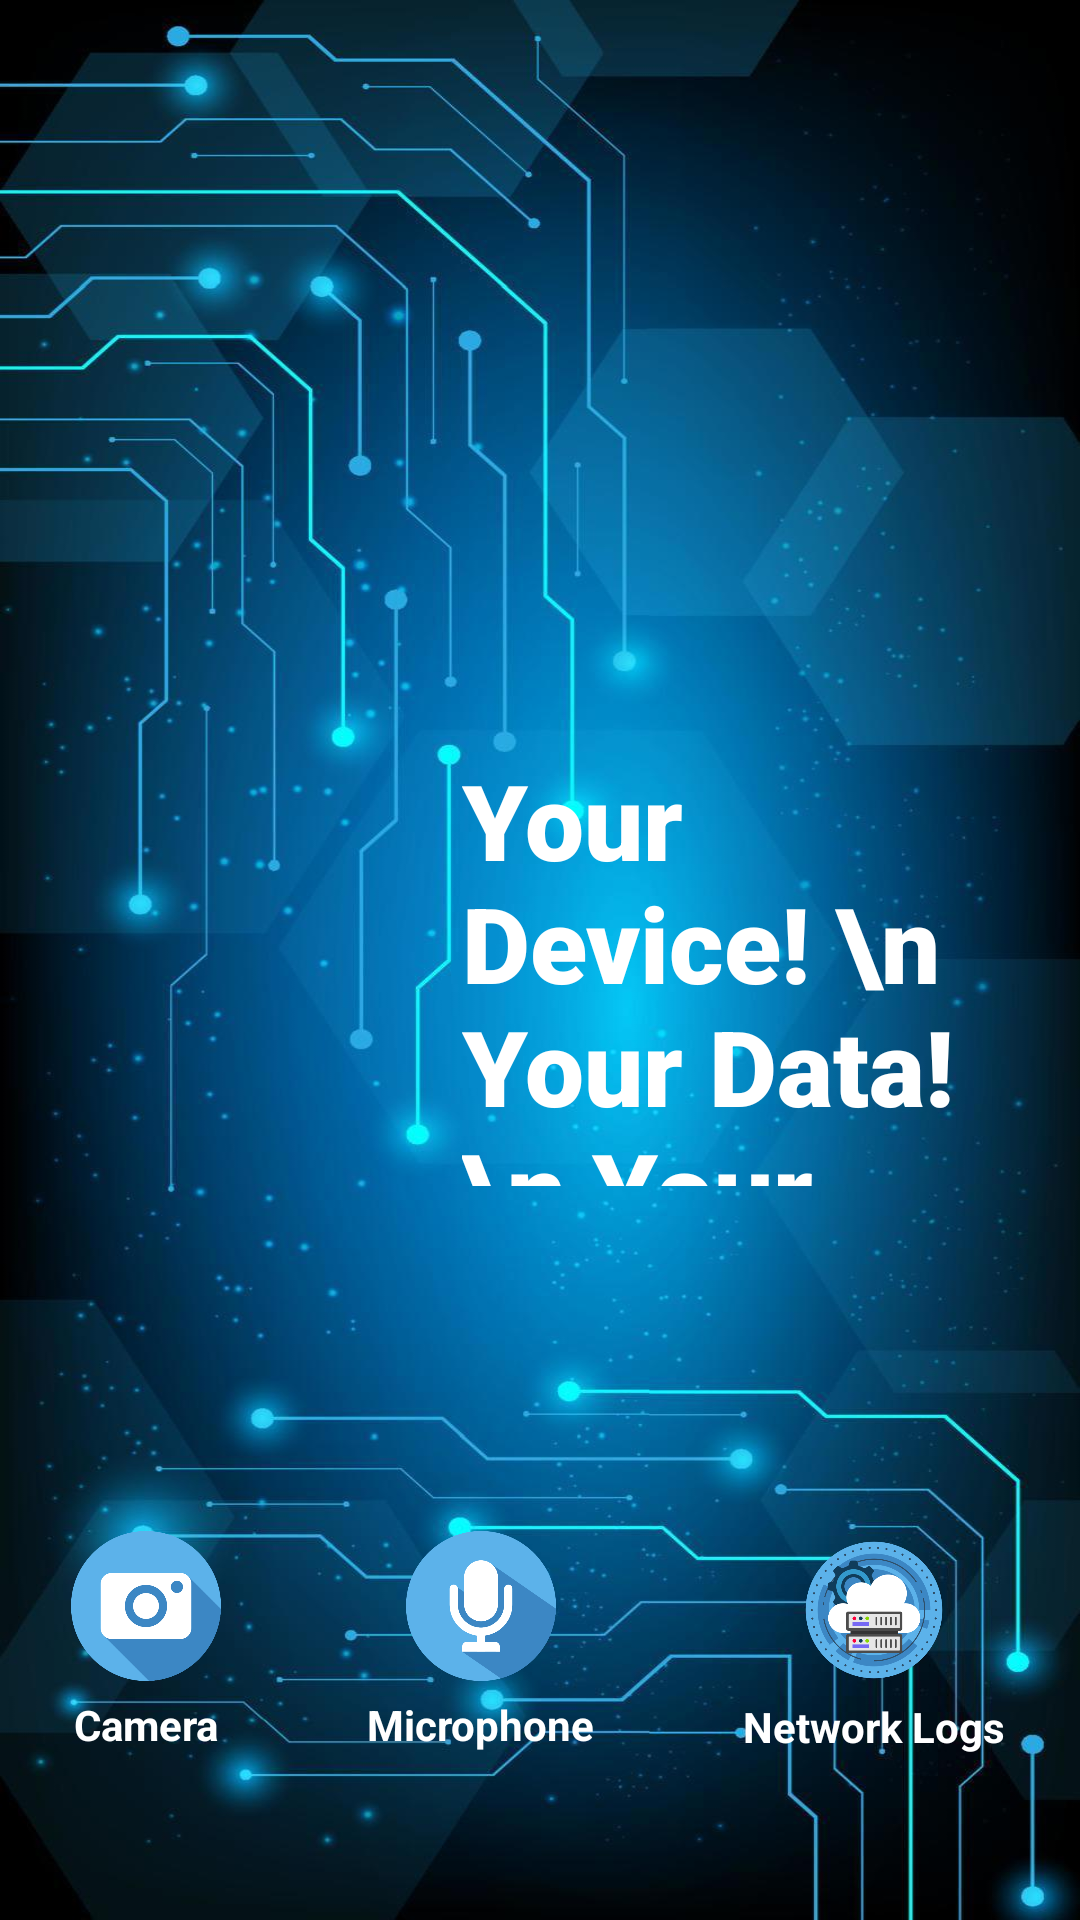

Named icons in this screenshot (1080*1920) and their centers, (x,y):
network data: (874,1610)
